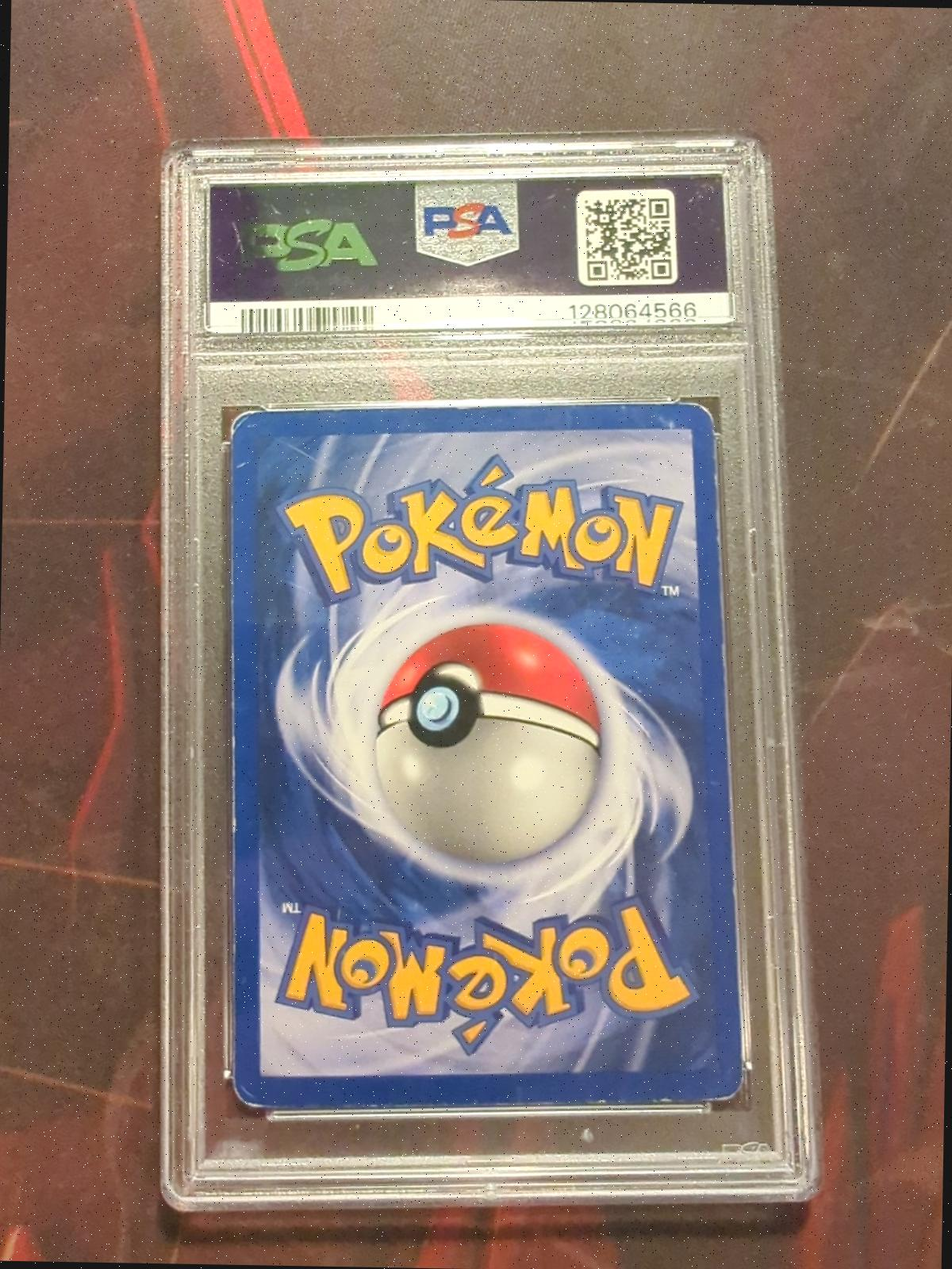card-2UtV: (229, 402, 744, 1108)
